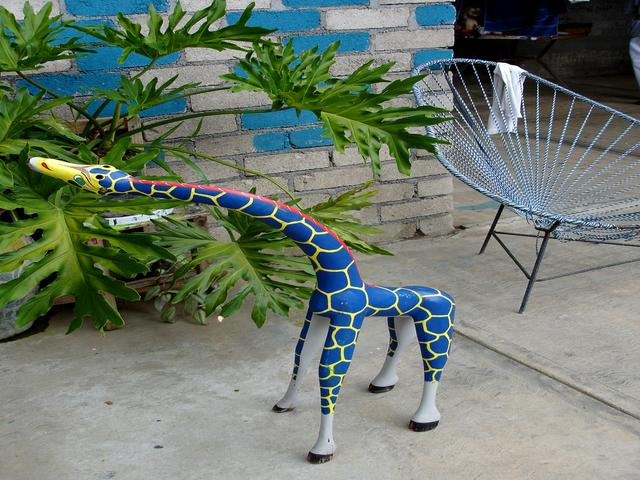giraffe: (20, 113, 482, 453)
